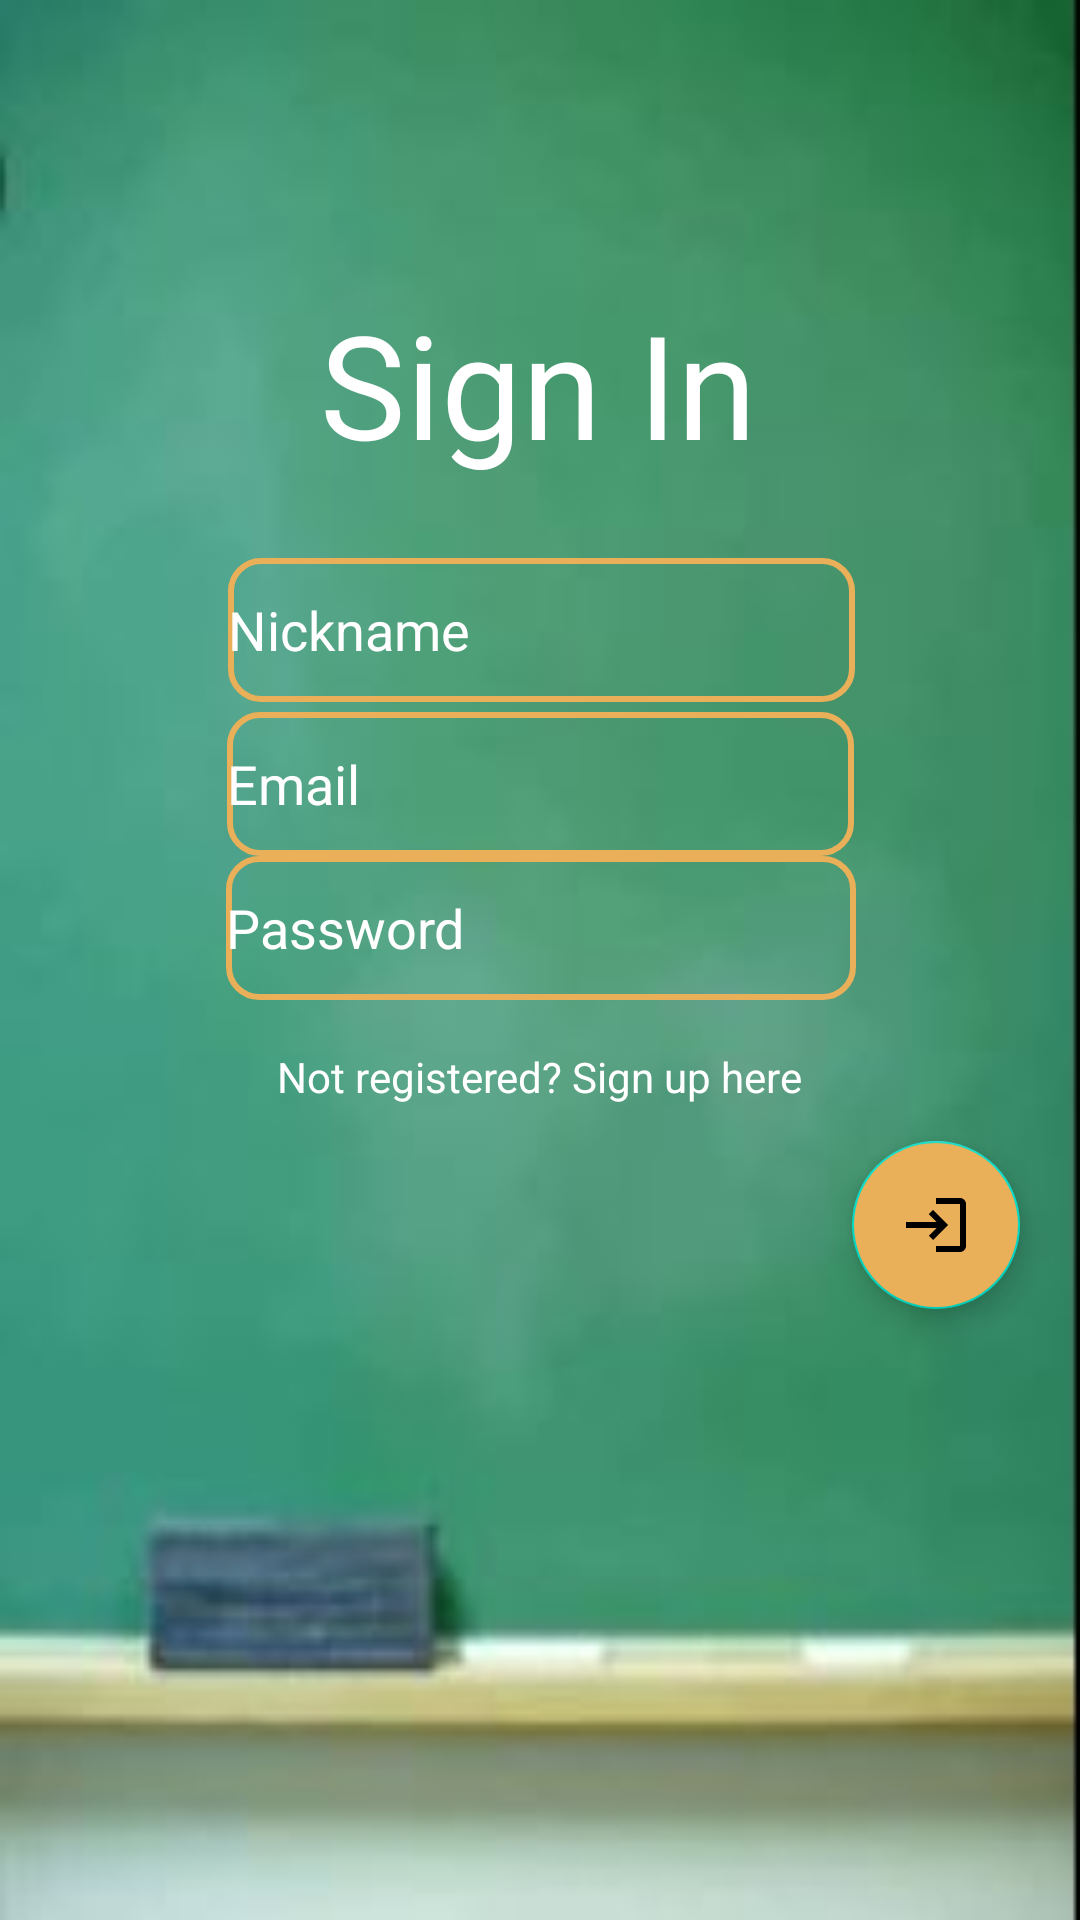

Point at icon controls on the screen. Image size 1080 x 1920, points as point (x, y).
fab login: point (936, 1225)
